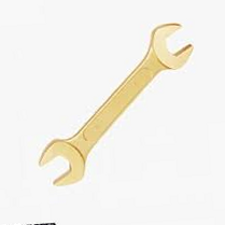wrench: (25, 11, 203, 189)
